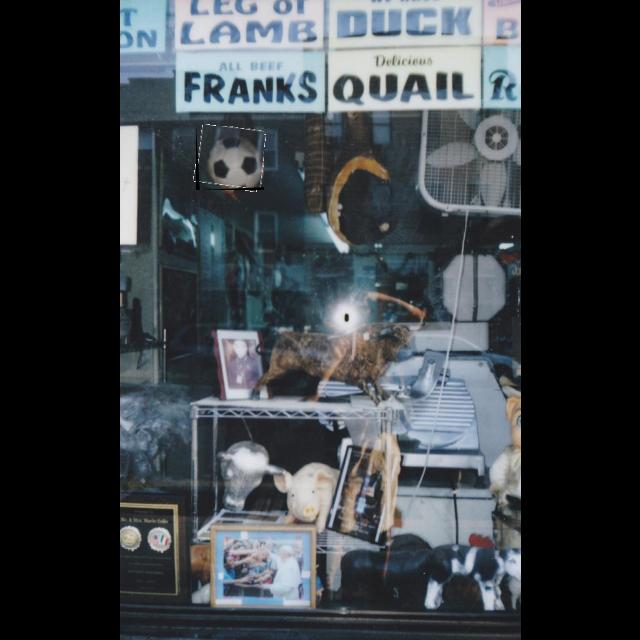Football: (196, 126, 264, 190)
